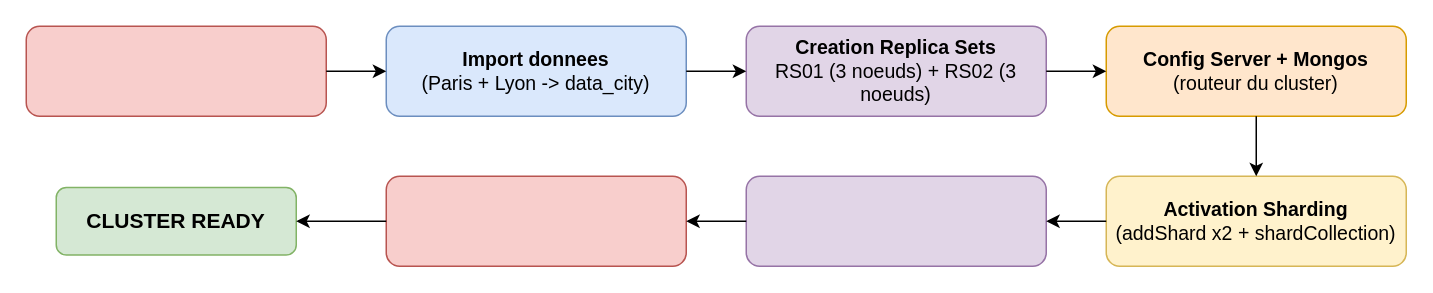
Some shapes in this 1433 by 293 pixel diagram are drawn without their labels. The centre of each missing label's shape, as x and y in pixels:
Ajout des arbitres (1 par replica set): [895,220]
Nettoyage (kill process + reset dossiers): [175,70]
V erification (sh.status + rs.conf): [535,220]
